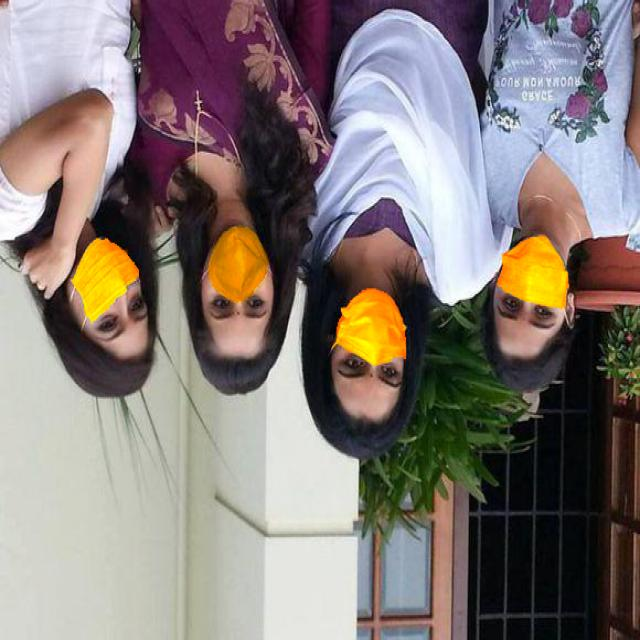Mask: (68, 234, 142, 327), (329, 286, 408, 368), (494, 232, 571, 312), (201, 223, 272, 305)
